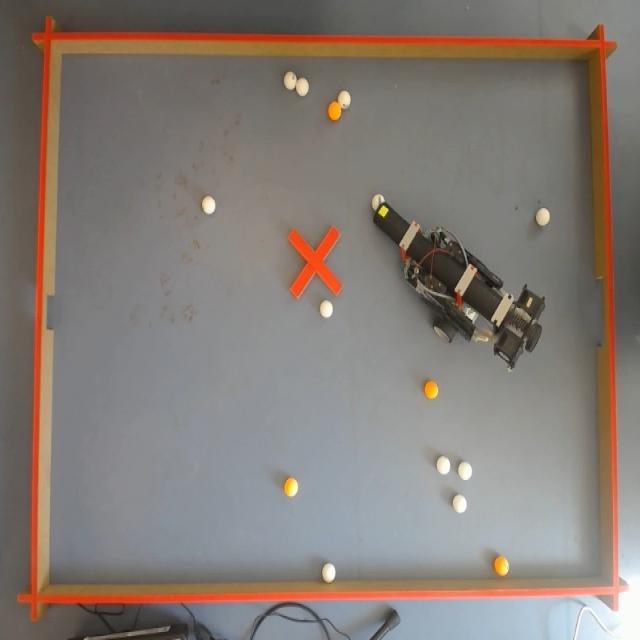orange: (493, 553, 511, 576), (424, 380, 440, 400), (326, 101, 342, 120), (283, 478, 299, 496)
robot: (376, 199, 544, 374)
white: (285, 71, 299, 92), (452, 494, 466, 514), (537, 208, 551, 228), (322, 563, 334, 586), (436, 456, 449, 476), (459, 463, 472, 482), (319, 299, 332, 318), (202, 196, 214, 216), (372, 193, 385, 210), (298, 79, 310, 97), (339, 90, 350, 106)
